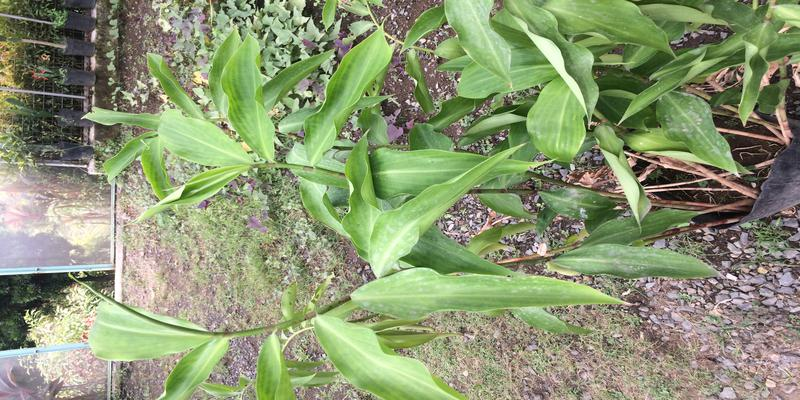Insulin: (124, 32, 733, 355)
